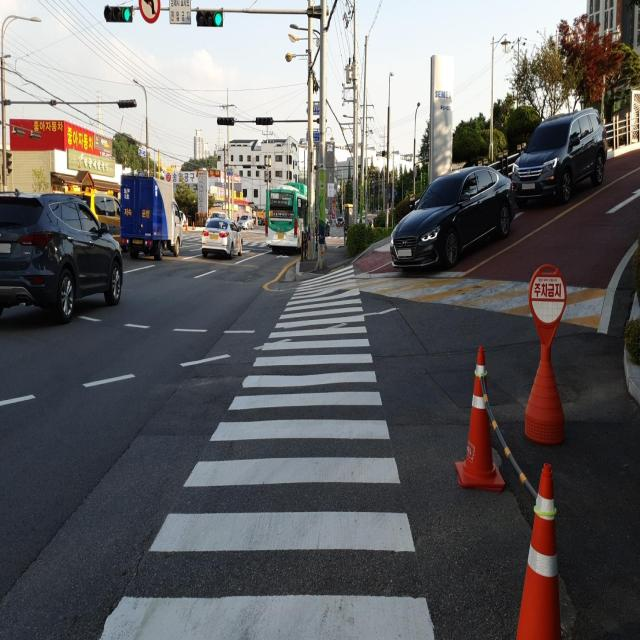횡단보도: (94, 255, 438, 640)
